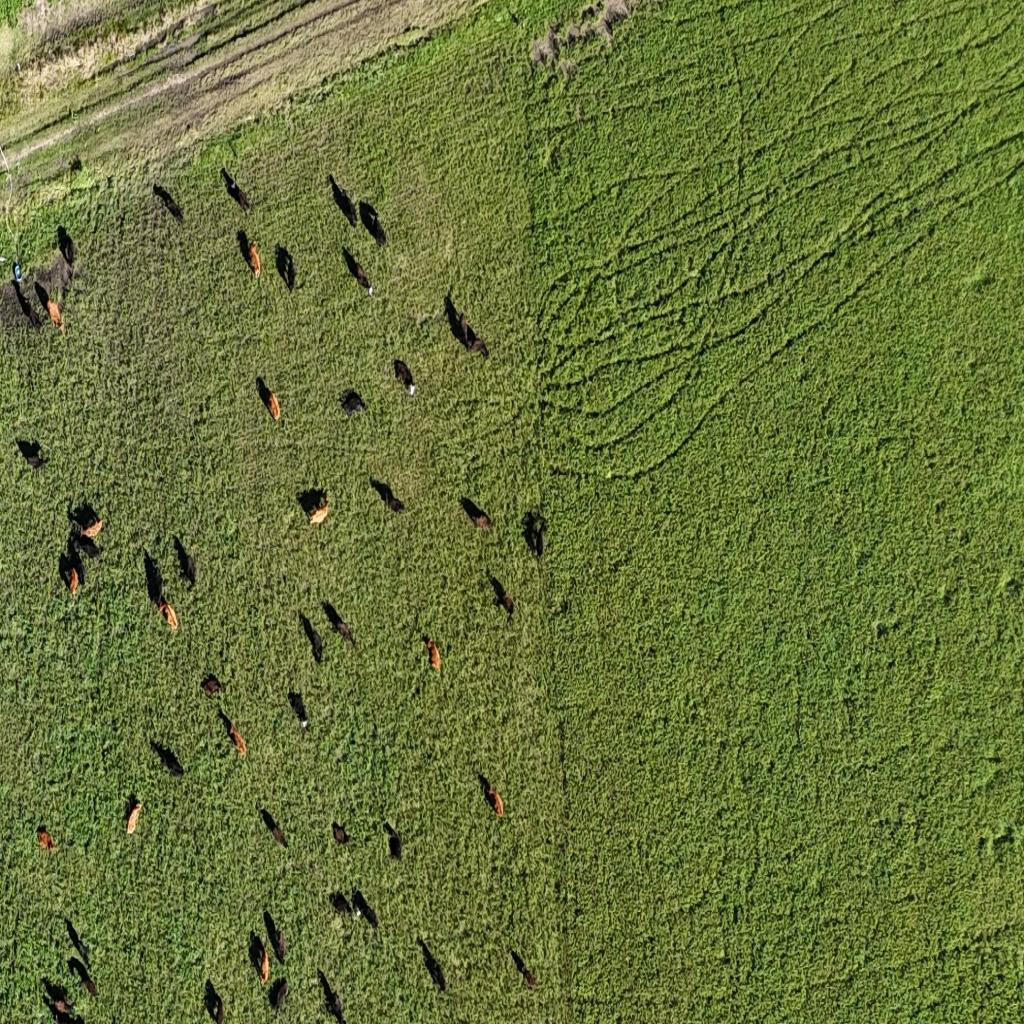cow: (0, 275, 42, 331), (328, 174, 360, 231), (418, 938, 446, 994), (326, 600, 358, 649), (318, 969, 347, 1022), (70, 500, 104, 542), (68, 955, 100, 999), (36, 284, 64, 334), (143, 550, 165, 612), (151, 738, 185, 778), (66, 916, 92, 968), (221, 166, 250, 212), (370, 476, 405, 514), (222, 708, 249, 757), (152, 183, 184, 223), (300, 488, 331, 529), (264, 908, 287, 962), (69, 525, 103, 561), (522, 512, 548, 559), (174, 535, 197, 588), (352, 890, 379, 934), (256, 376, 280, 425), (14, 438, 48, 472), (461, 496, 494, 531), (512, 951, 540, 992), (301, 613, 323, 665), (260, 806, 288, 846), (59, 548, 81, 598), (480, 774, 504, 819), (352, 253, 375, 299), (361, 200, 386, 242), (488, 575, 512, 617), (250, 934, 269, 986), (156, 594, 180, 635), (276, 244, 296, 293), (392, 359, 416, 399), (288, 690, 310, 733), (205, 980, 225, 1024), (56, 224, 76, 268), (383, 821, 403, 861), (339, 392, 366, 420), (269, 978, 289, 1014), (422, 634, 440, 673), (990, 830, 1016, 856), (125, 799, 142, 836), (330, 892, 354, 918), (331, 820, 352, 848), (458, 308, 472, 348), (200, 674, 222, 698), (470, 335, 490, 361), (37, 827, 56, 854), (54, 996, 78, 1017), (249, 243, 261, 280)
